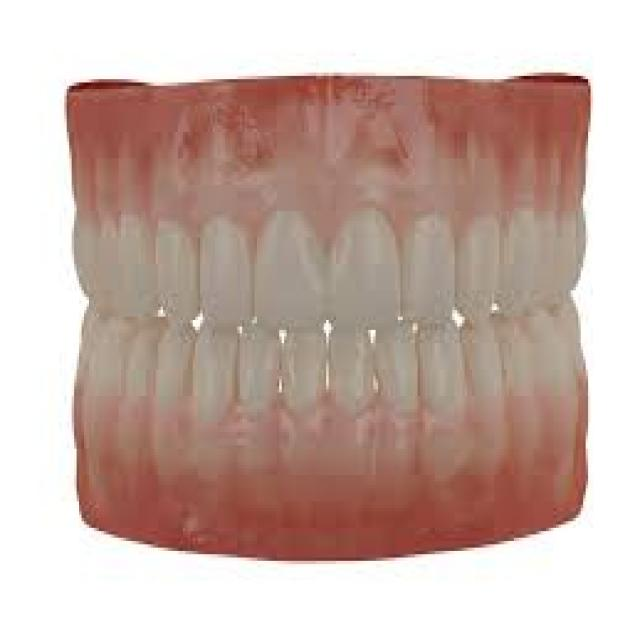tooth: (77, 211, 158, 317), (338, 218, 408, 340), (264, 215, 328, 336), (86, 330, 193, 402), (195, 228, 257, 333), (408, 231, 467, 330), (153, 214, 203, 324), (514, 221, 586, 297), (516, 310, 578, 396), (450, 214, 504, 304), (326, 333, 376, 419), (279, 343, 329, 416), (193, 330, 232, 416), (383, 333, 425, 409), (467, 326, 509, 396), (425, 336, 462, 406), (244, 340, 276, 406)
